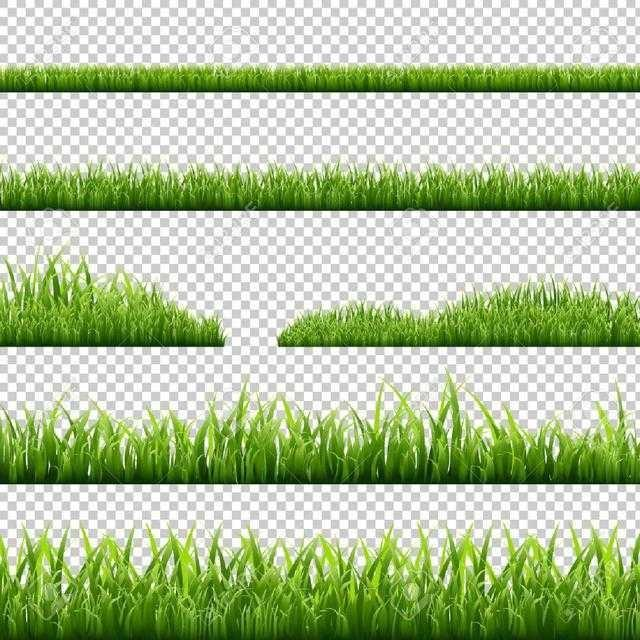lawn: (0, 536, 640, 640), (0, 380, 640, 484), (0, 165, 640, 210), (278, 281, 640, 346), (0, 256, 225, 346), (0, 64, 640, 92)
